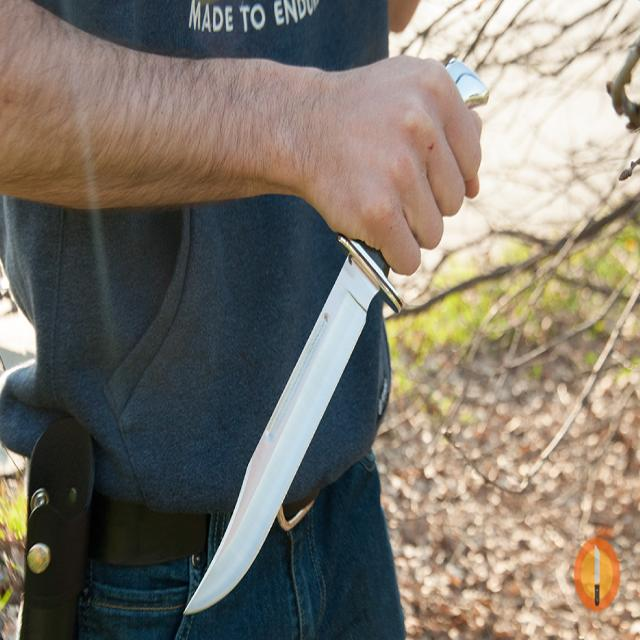knife: (178, 59, 493, 627)
